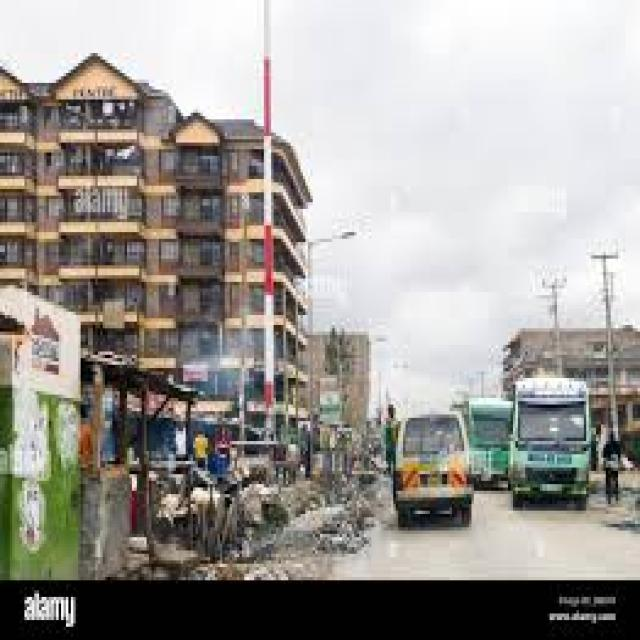bus: (515, 368, 593, 514), (482, 385, 509, 495)
matatu: (376, 398, 478, 537)
